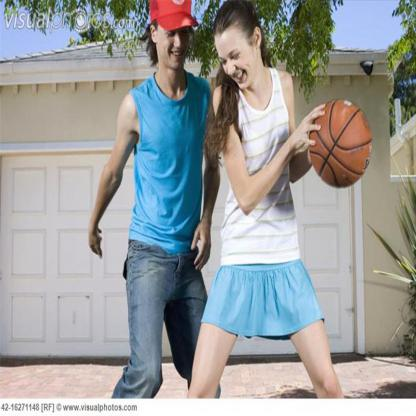face: (215, 30, 255, 90), (156, 7, 191, 72)
